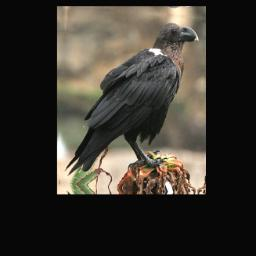Crow: (64, 13, 198, 186)
